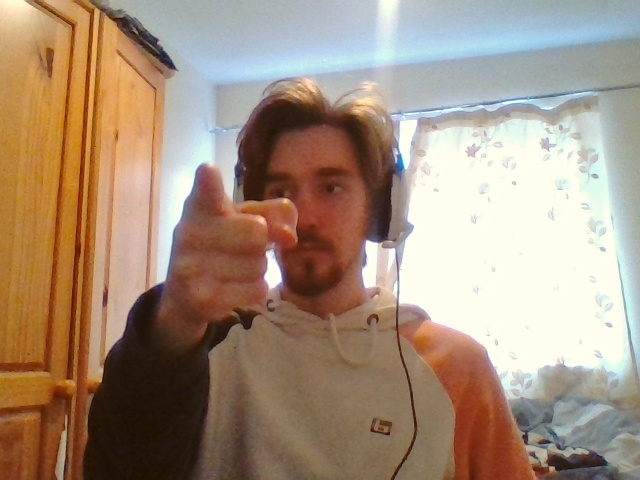you: (169, 163, 298, 319)
